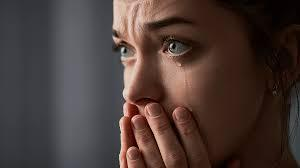Persons: (108, 1, 299, 168)
